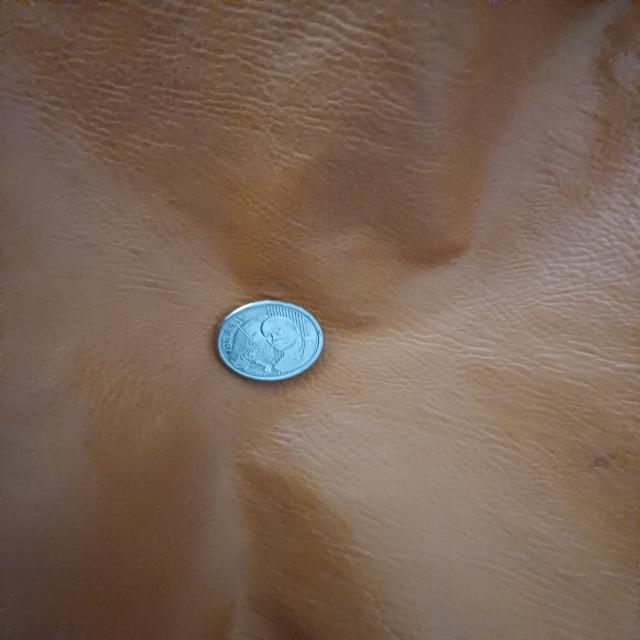50 cents: (210, 299, 333, 383)
